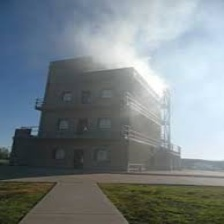smoke: (92, 28, 167, 89)
